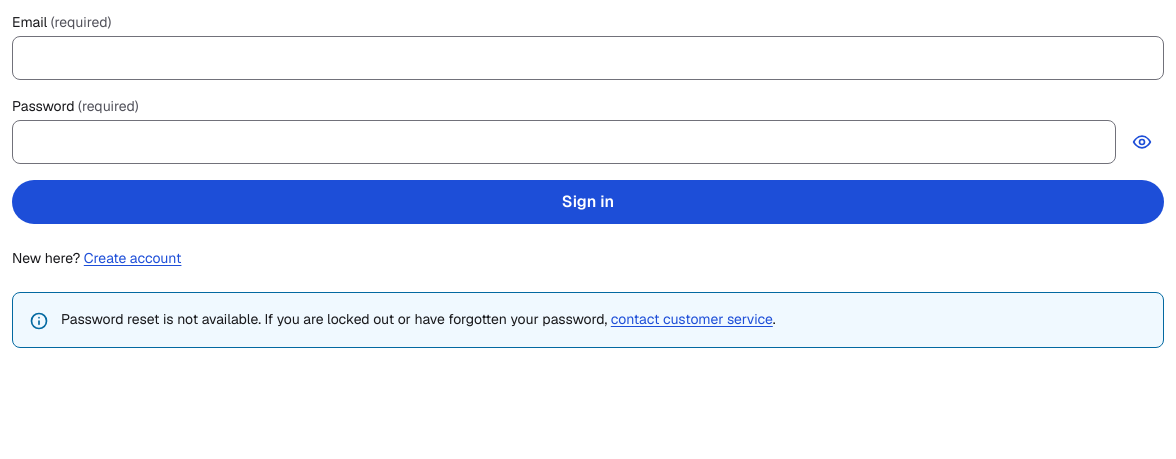
Scenario: SignInForm interactions › INVALID_CREDENTIALS: alert summary focused, constant text, password cleared, email re-filled
The width and height of the screenshot is (1176, 459).
Type "ada@example.com" into the field labelled "Email (required)" at (588, 58), box x1=12 y1=36 x2=1164 y2=80
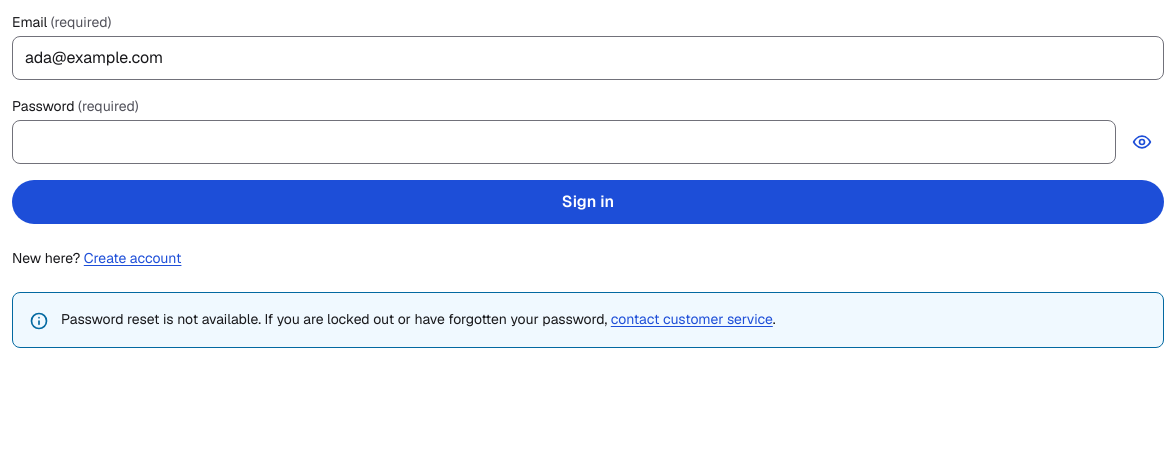
Type "correct horse battery" into the password field labelled "Password (required)" at (564, 142), box x1=12 y1=120 x2=1116 y2=164
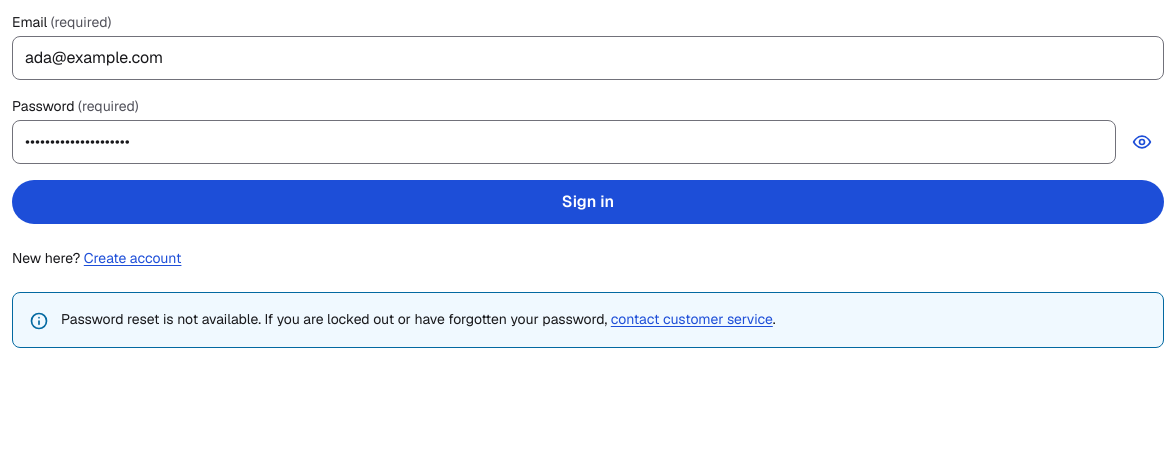
Submit the form with id "signin-form", box x1=12 y1=12 x2=1164 y2=224
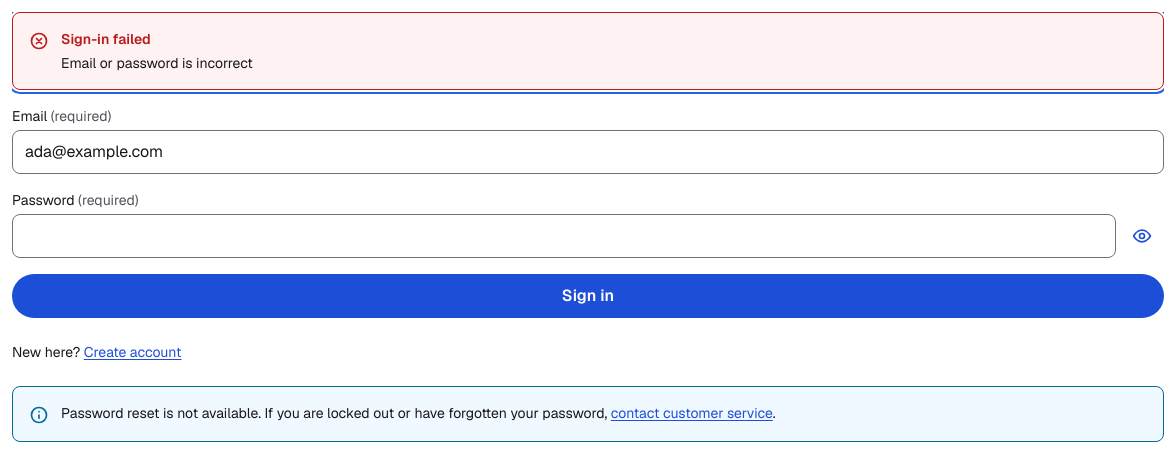
Result: the message with test id "signin-error-summary" shows "Email or password is incorrect" at x1=61 y1=54 x2=253 y2=72
